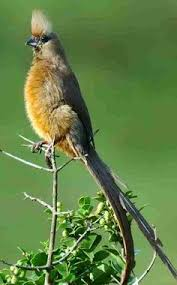target: (22, 5, 138, 285)
